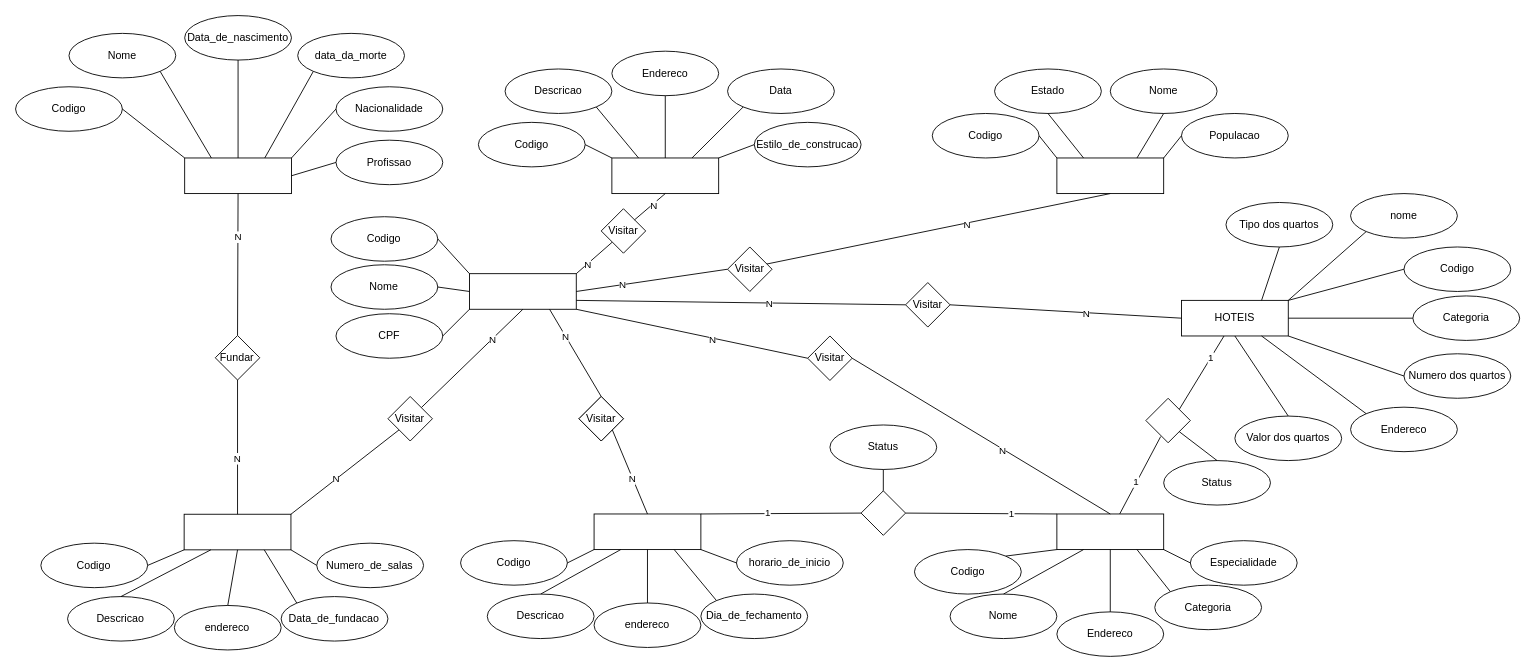
Image size: 1535x672. Some labels were removed from this diagram. Here are the shapes that lost their labels. From the top down, the centre of each, then its label:
At [237,175]: "FUNDADORES".
At [665,175]: "IGREJAS".
At [1110,175]: "CIDADES".
At [522,291]: "Clientes".
At [1167,420]: "Atribuir".
At [237,531]: "MUSEUS".
At [647,531]: "CASAS_DE_SHOW".
At [883,512]: "Possuir".
At [1110,531]: "RESTAURANTES".
